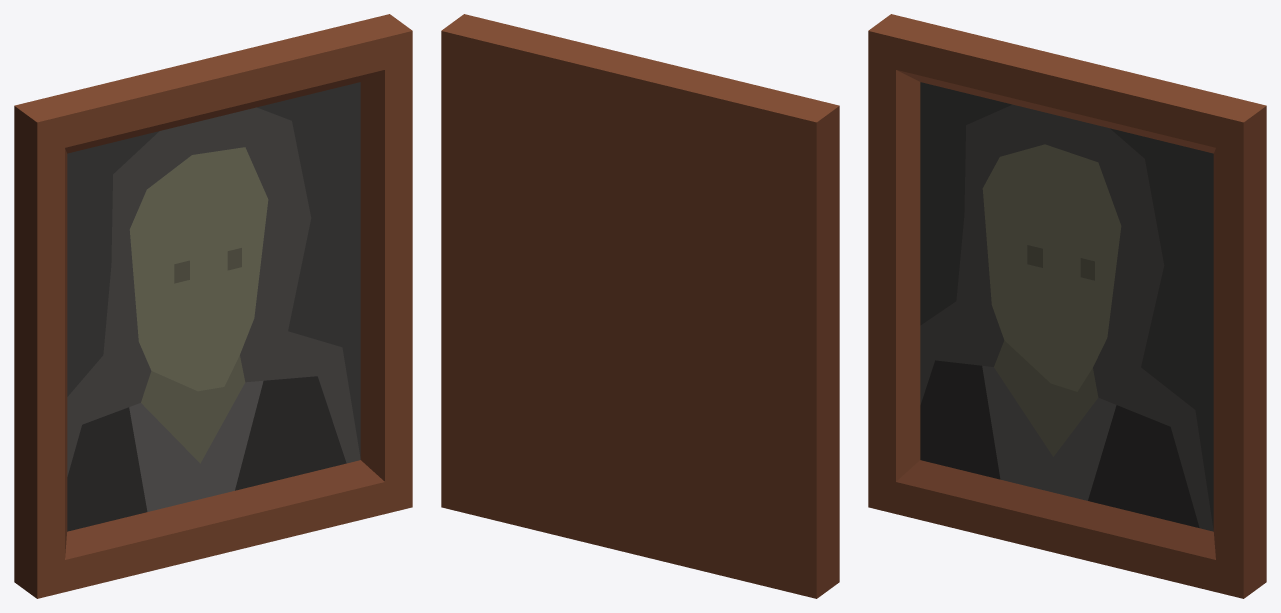
Rendered from AI_Prop_Painting_02.fbx.
3 views of the same model, side by side, from view 1: azimuth 30°, elevation 25°; view 2: azimuth 150°, elevation 25°; view 3: azimuth 330°, elevation 25° (orthographic).
Parts seen in each view (by area): view 1: AI_Prop_Painting_02; view 2: AI_Prop_Painting_02; view 3: AI_Prop_Painting_02.
Part boxes in pixels (box(x1,y1,x2,y2)): AI_Prop_Painting_02: box(14, 14, 412, 598); AI_Prop_Painting_02: box(441, 14, 839, 598); AI_Prop_Painting_02: box(868, 14, 1266, 598).
Bounding box in the file's own units: 1 × 1.21 × 0.1061.
